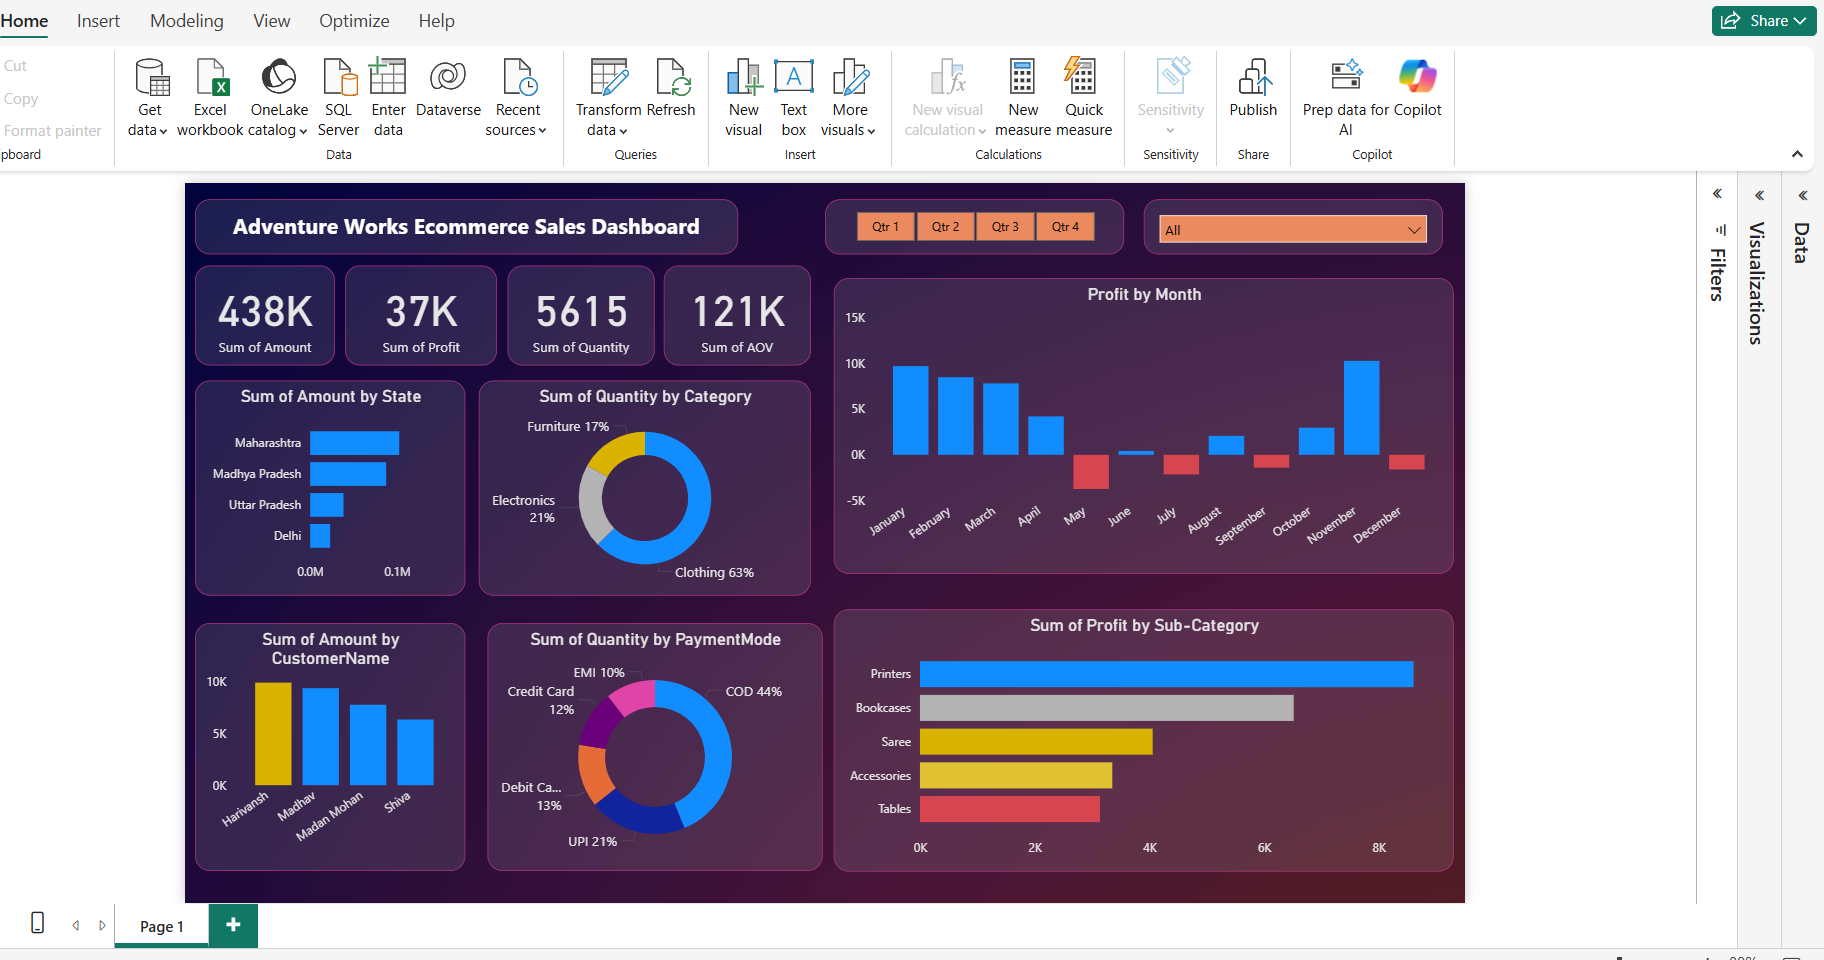

This screenshot's page, from the dashboard's own definition file:
{"tool":"powerbi","page":{"name":"Page 1","canvas":[1280,720],"ordinal":0},"visuals":[{"type":"columnChart","title":"Profit by Month","fields":{"Category":["Orders.Order Date.Variation.Date Hierarchy.Month"],"Y":["Details.Profit"]},"box":[649.1,94.7,620.2,296.4],"z":0},{"type":"barChart","fields":{"Category":["Details.Sub-Category"],"Y":["Details.Profit"]},"box":[649.1,426.8,620.2,262.1],"z":1000},{"type":"donutChart","fields":{"Category":["Details.Category"],"Y":["Details.Quantity"]},"box":[293.7,197.6,332.1,215.4],"z":2000},{"type":"donutChart","fields":{"Y":["Details.Quantity"],"Category":["Details.PaymentMode"]},"box":[301.9,440.5,334.8,248.4],"z":3000},{"type":"card","fields":{"Values":["Details.Amount"]},"box":[9.6,82.3,140,100.2],"z":4000},{"type":"card","fields":{"Values":["Details.Profit"]},"box":[160.5,82.3,152.3,100.2],"z":5000},{"type":"card","fields":{"Values":["Details.Quantity"]},"box":[322.5,82.3,146.8,100.2],"z":6000},{"type":"card","fields":{"Values":["Details.AOV"]},"box":[478.9,82.3,146.8,100.2],"z":7000},{"type":"barChart","fields":{"Category":["Orders.State"],"Y":["Details.Amount"]},"box":[9.6,197.6,270.3,215.4],"z":8000},{"type":"columnChart","fields":{"Category":["Orders.CustomerName"],"Y":["Details.Amount"]},"box":[10,440,270,248],"z":9000},{"type":"textbox","box":[9.6,16.5,543.4,54.9],"z":10000},{"type":"slicer","fields":{"Values":["Orders.Order Date.Variation.Date Hierarchy.Quarter"]},"box":[639.5,16.5,299.1,54.9],"z":11000},{"type":"slicer","fields":{"Values":["Orders.State"]},"box":[959.2,16.5,299.1,54.9],"z":12000},{"type":"qnaVisual","box":[553,0,150,150],"z":12001}]}

Visuals, with their boxes on the page's 1280x720 design canvas (x1, y1, x2, y2). These are canvas units, not pixel positions in the 1824x960 screenshot, which may show the page scaled, cropped or inside an application window:
"Profit by Month" columnChart: region(649, 95, 1269, 391)
barChart - Details.Sub-Category x Details.Profit: region(649, 427, 1269, 689)
donutChart - Details.Category x Details.Quantity: region(294, 198, 626, 413)
donutChart - Details.Quantity x Details.PaymentMode: region(302, 440, 637, 689)
card - Details.Amount: region(10, 82, 150, 182)
card - Details.Profit: region(160, 82, 313, 182)
card - Details.Quantity: region(322, 82, 469, 182)
card - Details.AOV: region(479, 82, 626, 182)
barChart - Orders.State x Details.Amount: region(10, 198, 280, 413)
columnChart - Orders.CustomerName x Details.Amount: region(10, 440, 280, 688)
textbox: region(10, 16, 553, 71)
slicer - Orders.Order Date.Variation.Date Hierarchy.Quarter: region(640, 16, 939, 71)
slicer - Orders.State: region(959, 16, 1258, 71)
qnaVisual: region(553, 0, 703, 150)
